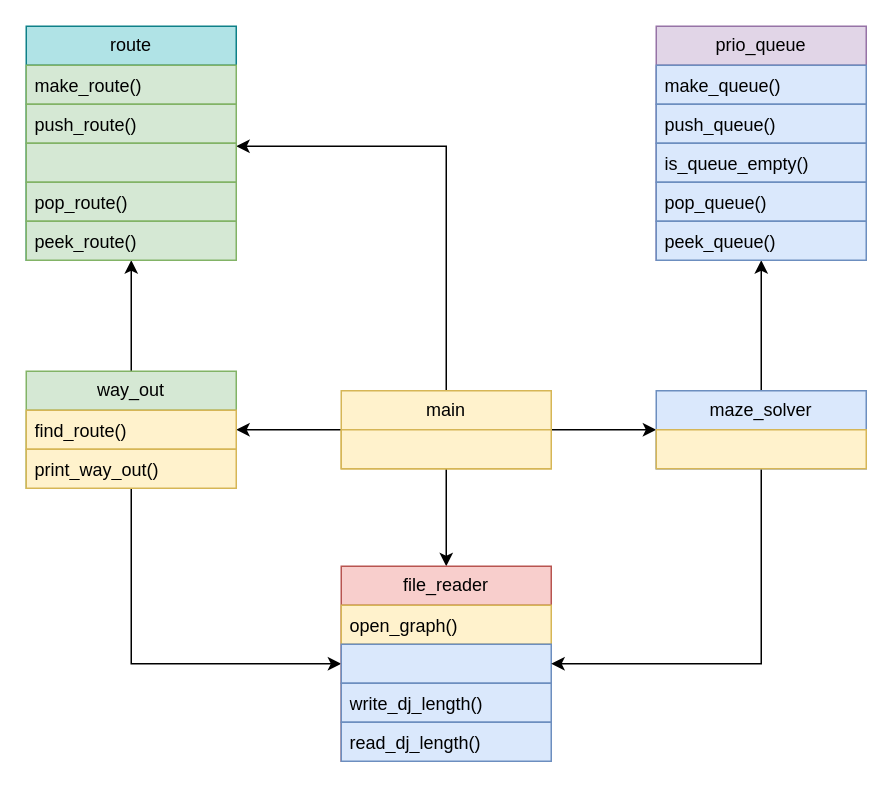
Some shapes in this 893 by 792 pixel diagram are drawn without their labels. Here are the shapes that lost their labels. From the top down, the centre of each, then its label:
pixel 130 162: is_route_empty()
pixel 445 448: main()
pixel 760 448: solve_dj()
pixel 445 663: read_single_node()
